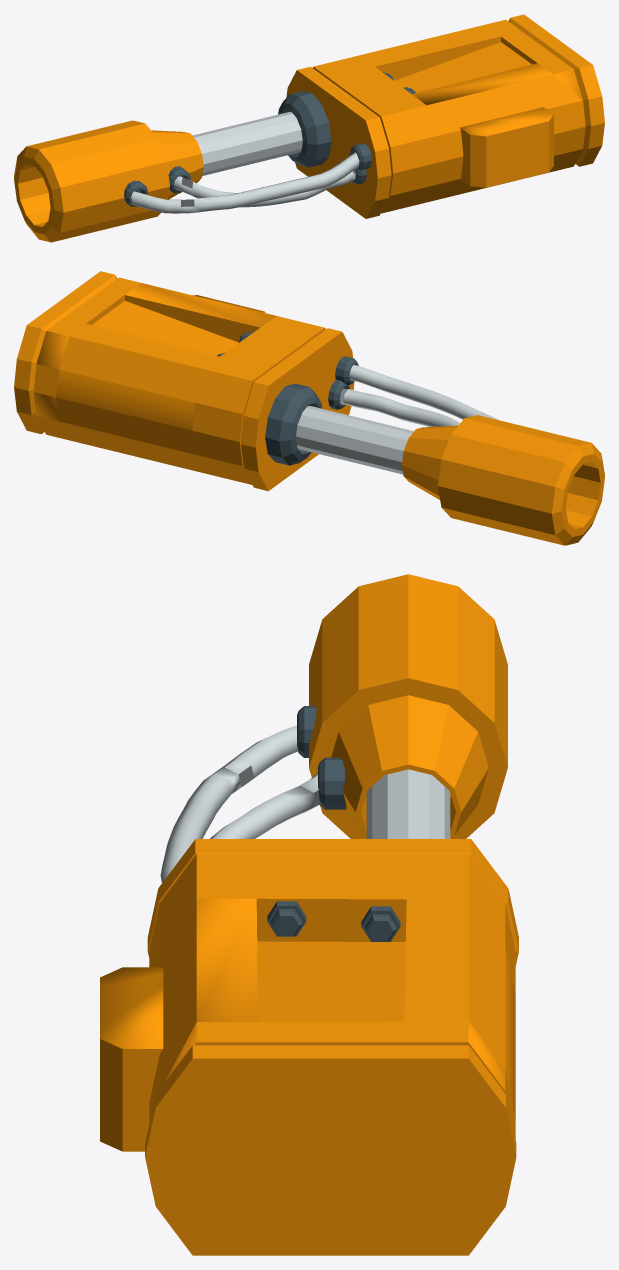
Rendered from newGun 1.obj.
The picture shows the model from 3 angles, top to bottom: view 1: azimuth 30°, elevation 25°; view 2: azimuth 150°, elevation 25°; view 3: azimuth 270°, elevation 25°; orthographic projection. The views are drawn at different scales.
Parts seen in each view (by area): view 1: gun3_mesh1221659826; view 2: gun3_mesh1221659826; view 3: gun3_mesh1221659826.
Boxes of the visible parts, bbox=[...] form: gun3_mesh1221659826: bbox=[14, 14, 604, 242]; gun3_mesh1221659826: bbox=[14, 271, 604, 545]; gun3_mesh1221659826: bbox=[100, 574, 518, 1255].
Size of the model in its own units: 1.15 by 0.2162 by 0.4132.
